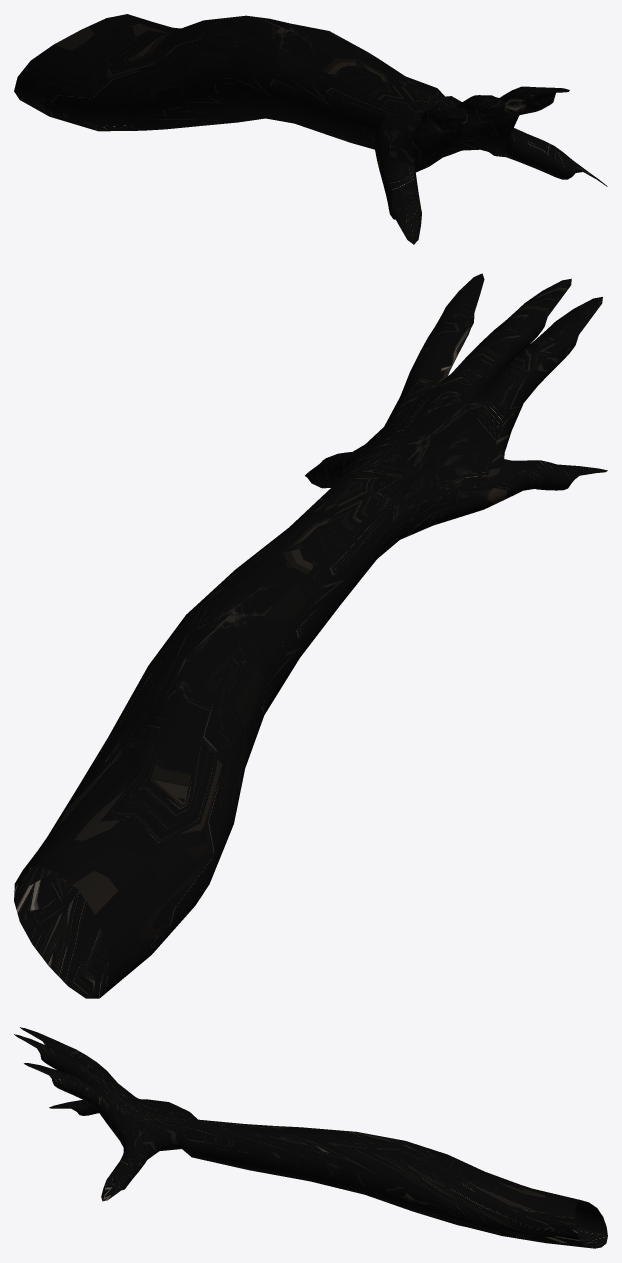
File: hand_rig.fbx
3 views of the same model, one above another, from view 1: azimuth 30°, elevation 25°; view 2: azimuth 150°, elevation 25°; view 3: azimuth 270°, elevation 25° (orthographic). The views are drawn at different scales.
Visible parts, largest first — view 1: Hand; view 2: Hand; view 3: Hand.
Part boxes in pixels (box(x1,y1,x2,y2)): Hand: box(14, 14, 607, 244); Hand: box(14, 273, 607, 998); Hand: box(14, 1027, 607, 1248).
Size of the model in its own units: 2.03 by 2.67 by 6.77.
Materials: 1 (1 with a texture image).
